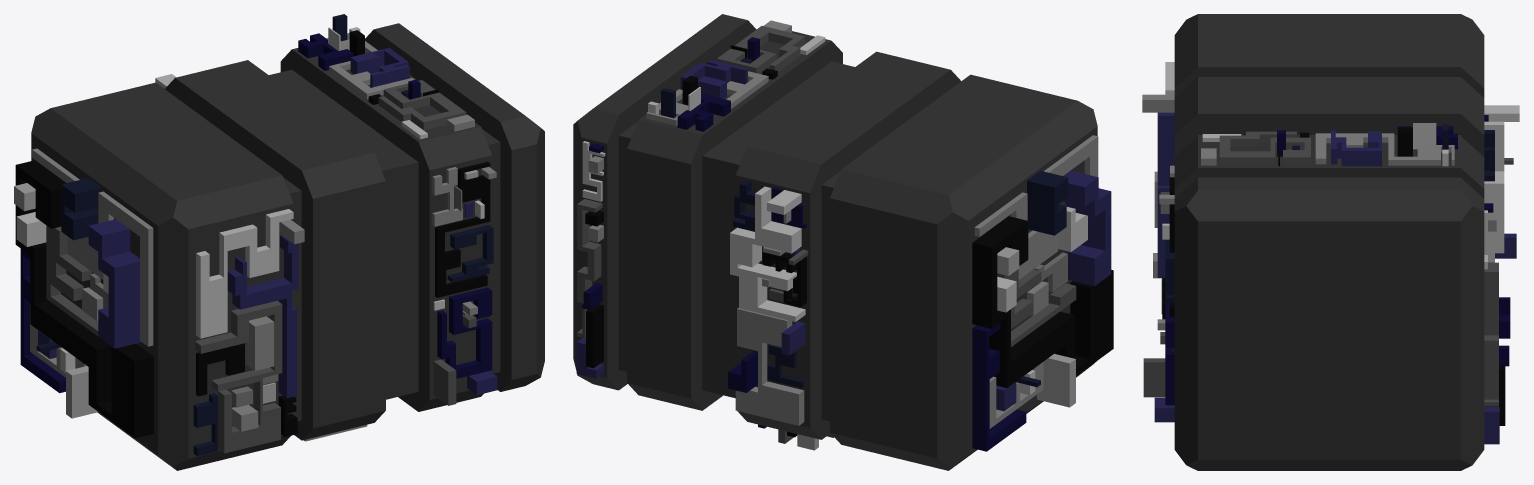
Rendered from SpaceObject2.1.fbx.
The picture shows the model from 3 angles, left to right: view 1: azimuth 30°, elevation 25°; view 2: azimuth 150°, elevation 25°; view 3: azimuth 270°, elevation 25°; orthographic projection. The views are drawn at different scales.
Parts seen in each view (by area): view 1: body, Object_1, Object_43, Object_46, Object_3, Object_45, Object_6, Object_33, Object_26, Object_2, Object_100, Object_16 (+16 smaller); view 2: body, Object_1, Object_66, Object_62, Object_3, Object_7, Object_6, Object_16, Object_2, Object_100, Object_84, Object_10 (+17 smaller); view 3: body, Object_100, Object_84, Object_45, Object_98, Object_66, Object_99, Object_33, Object_32, Object_77, Object_44, Object_25 (+8 smaller).
Boxes of the visible parts, box(x1,y1,x2,y2) form: body: box(31, 23, 544, 470); Object_1: box(15, 160, 153, 438); Object_43: box(195, 300, 282, 453); Object_46: box(196, 209, 293, 338); Object_3: box(88, 219, 141, 348); Object_45: box(227, 235, 298, 398); Object_6: box(32, 148, 153, 346); Object_33: box(437, 287, 492, 378); Object_26: box(435, 161, 490, 297); Object_2: box(46, 225, 98, 336); Object_100: box(378, 80, 466, 130); Object_16: box(61, 178, 101, 240); body: box(573, 14, 1097, 470); Object_1: box(972, 216, 1113, 387); Object_66: box(730, 186, 805, 321); Object_62: box(735, 308, 804, 425); Object_3: box(1062, 170, 1111, 285); Object_7: box(972, 323, 1026, 451); Object_6: box(974, 135, 1098, 279); Object_16: box(1027, 171, 1068, 235); Object_2: box(997, 269, 1076, 346); Object_100: box(717, 26, 805, 73); Object_84: box(577, 199, 602, 338); Object_10: box(1037, 353, 1075, 407); body: box(1174, 14, 1484, 470); Object_100: box(1219, 131, 1310, 165); Object_84: box(1484, 262, 1498, 406); Object_45: box(1157, 112, 1174, 277); Object_98: box(1315, 133, 1454, 165); Object_66: box(1484, 121, 1504, 253); Object_99: box(1331, 130, 1381, 166); Object_33: box(1165, 303, 1174, 405); Object_32: box(1143, 358, 1165, 397); Object_77: box(1484, 407, 1499, 444); Object_44: box(1142, 94, 1174, 112); Object_25: box(1165, 239, 1174, 303).
Size of the model in its own units: 325 by 238 by 244.
